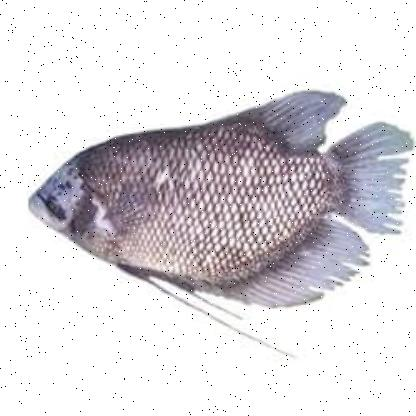gurame: (25, 79, 416, 315)
